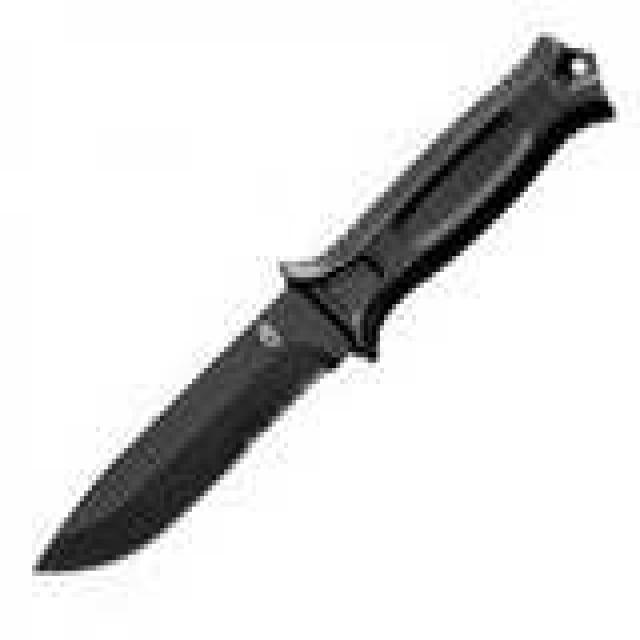Knife: (33, 56, 640, 597)
